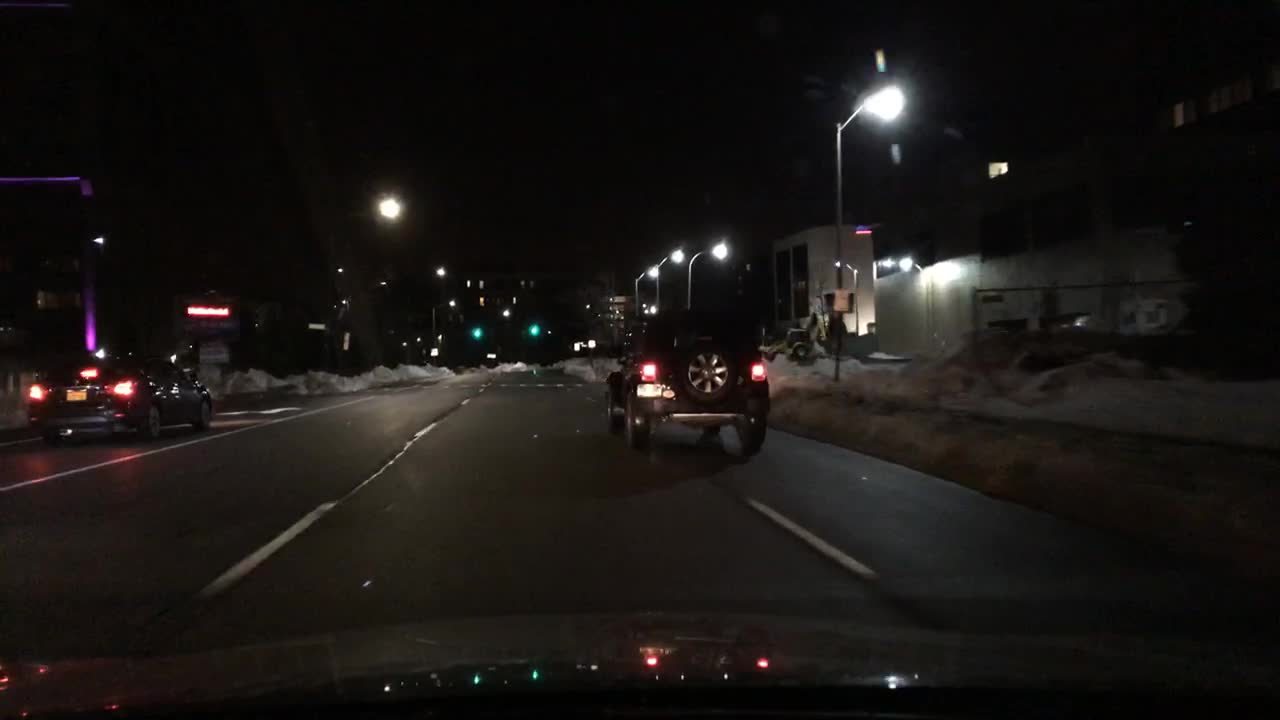car: (601, 311, 769, 457), (25, 352, 212, 437)
traffic light: (531, 320, 539, 336), (476, 324, 481, 341)
traffic sign: (335, 296, 347, 327), (836, 290, 851, 309), (341, 331, 348, 350), (308, 322, 326, 329), (587, 339, 595, 348), (431, 347, 437, 357), (485, 354, 497, 359)
